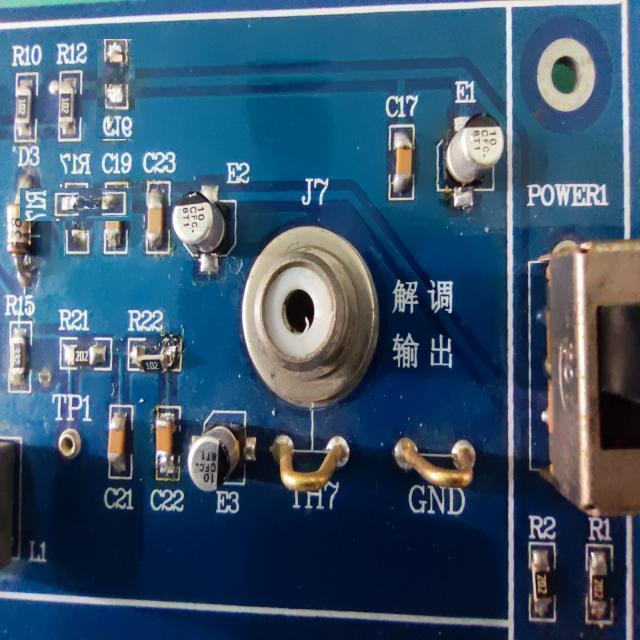miss_welding: (40, 168, 112, 240), (96, 38, 135, 139)
